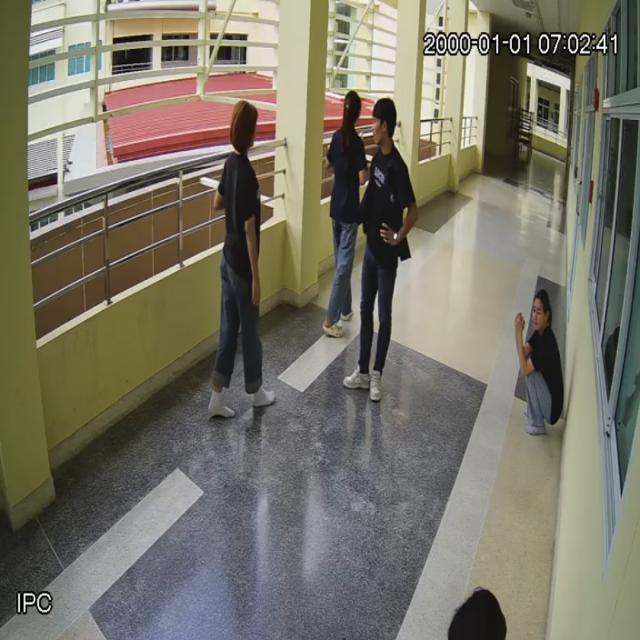normal: (208, 100, 277, 419), (362, 99, 418, 402), (324, 92, 364, 328), (517, 290, 562, 435)
